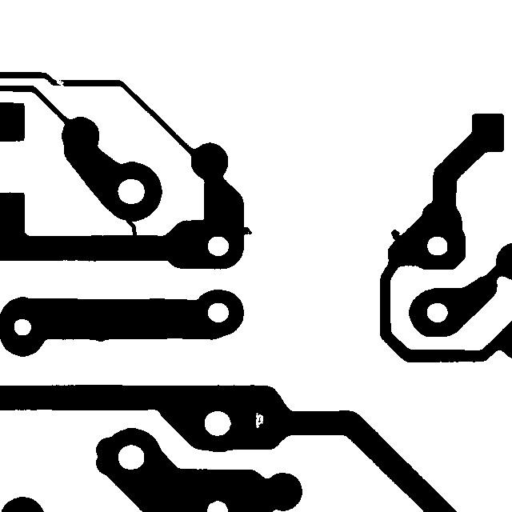open: (48, 67, 71, 94)
pin-hole: (248, 405, 270, 435)
short: (118, 209, 144, 244)
spur: (383, 222, 407, 248), (233, 219, 259, 242)
